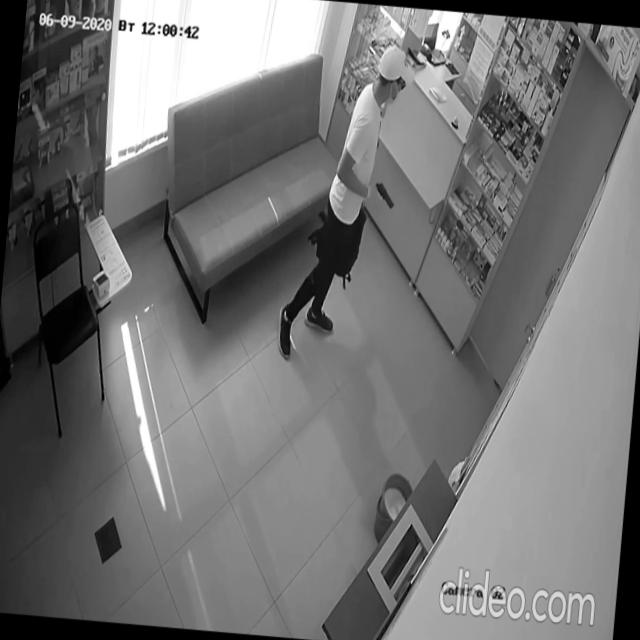gun: (371, 177, 397, 212)
person with a gun: (274, 39, 417, 374)
